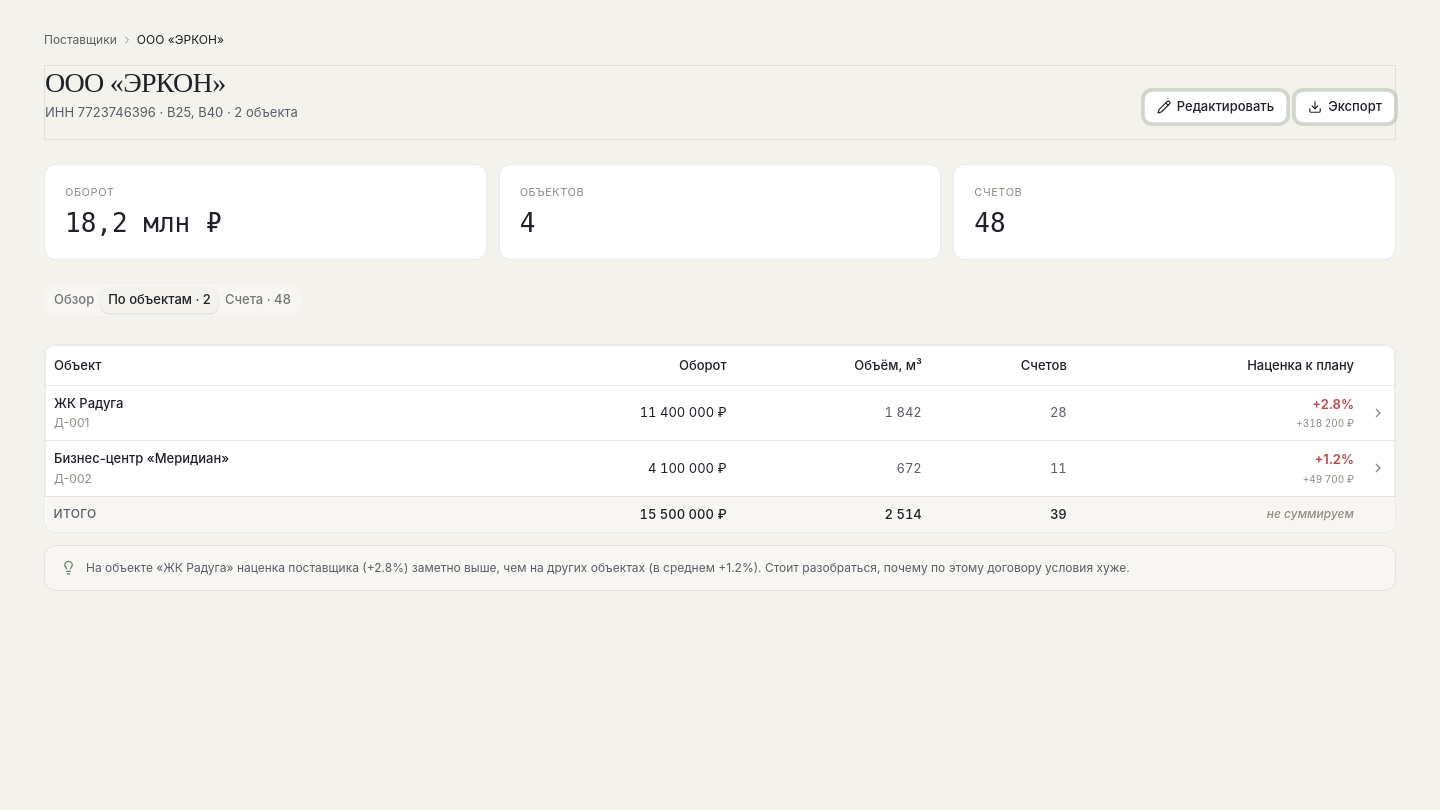
Test case: SupplierPage › switches to Счета tab and shows invoice number
The width and height of the screenshot is (1440, 810).
Click the tab "Счета · 48" at (258, 300), box x1=218 y1=288 x2=298 y2=313
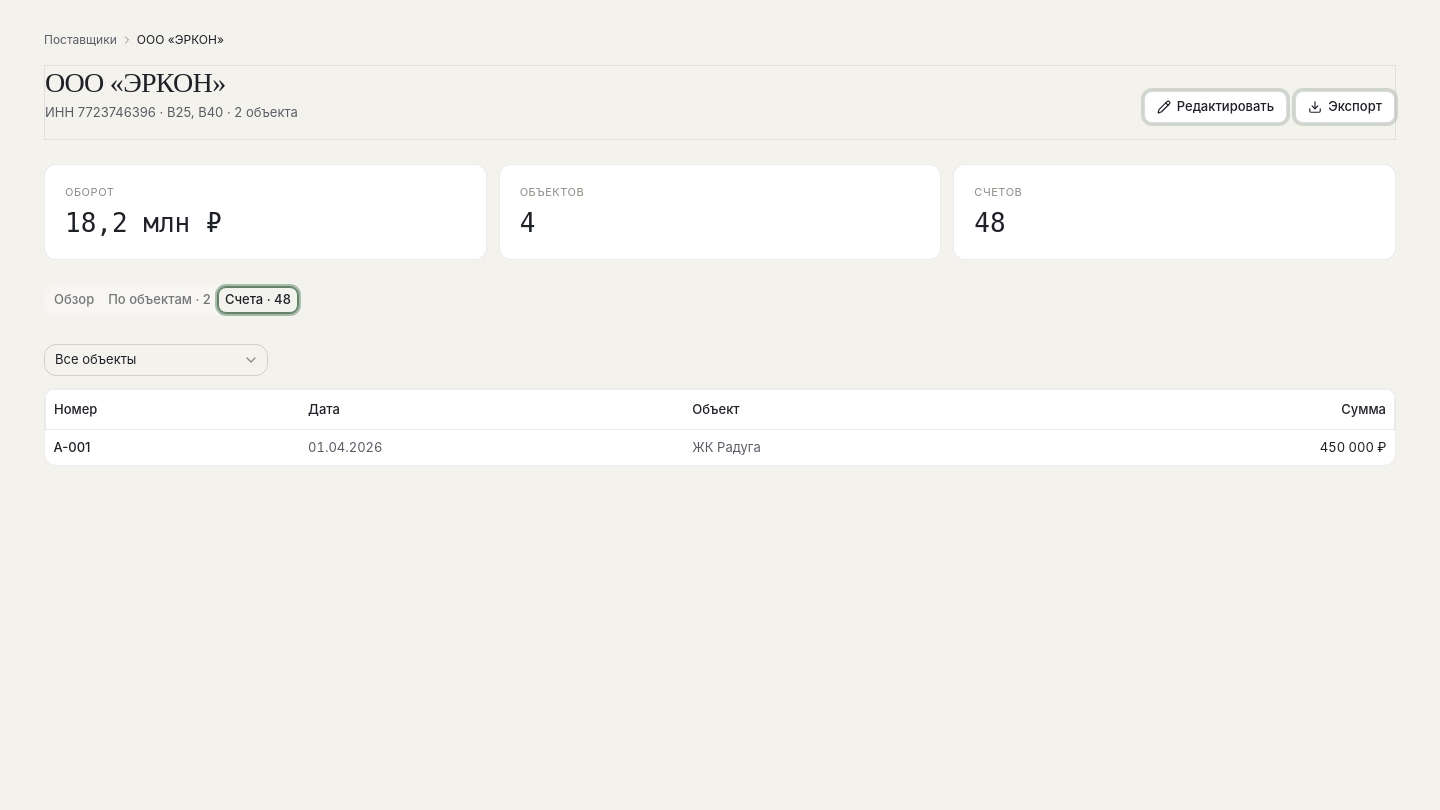
Check: the text "А-001" is shown, box x1=46 y1=430 x2=300 y2=466
